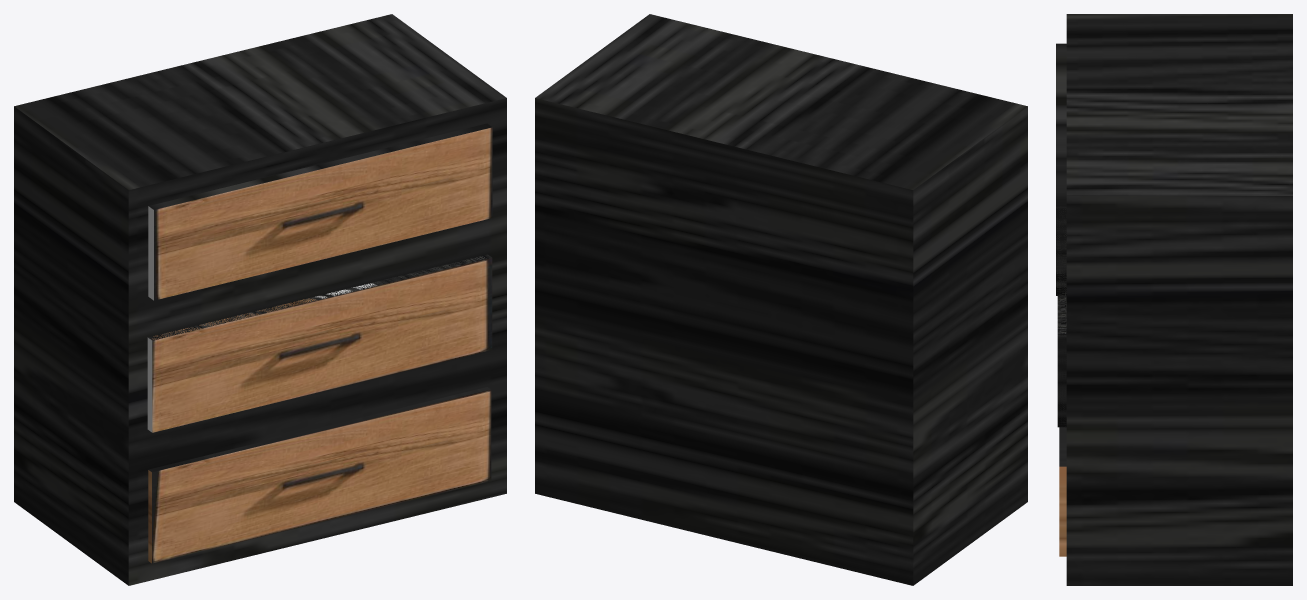
The model's file is nachtkastje.fbx.
The picture shows the model from 3 angles, left to right: view 1: azimuth 30°, elevation 25°; view 2: azimuth 150°, elevation 25°; view 3: azimuth 270°, elevation 25°; orthographic projection.
Visible parts, largest first — view 1: ladenkast, lade 2, lade 1, lade 3; view 2: ladenkast; view 3: ladenkast, lade 1, lade 3, lade 2.
Part boxes in pixels (<box>): ladenkast: <box>14,14,506,585</box>; lade 2: <box>147,254,492,432</box>; lade 1: <box>148,123,492,300</box>; lade 3: <box>148,387,491,563</box>; ladenkast: <box>535,14,1027,585</box>; ladenkast: <box>1056,14,1292,585</box>; lade 1: <box>1056,43,1066,295</box>; lade 3: <box>1059,427,1066,556</box>; lade 2: <box>1057,296,1066,427</box>.
Bounding box in the file's own units: 150 × 150 × 82.54.
